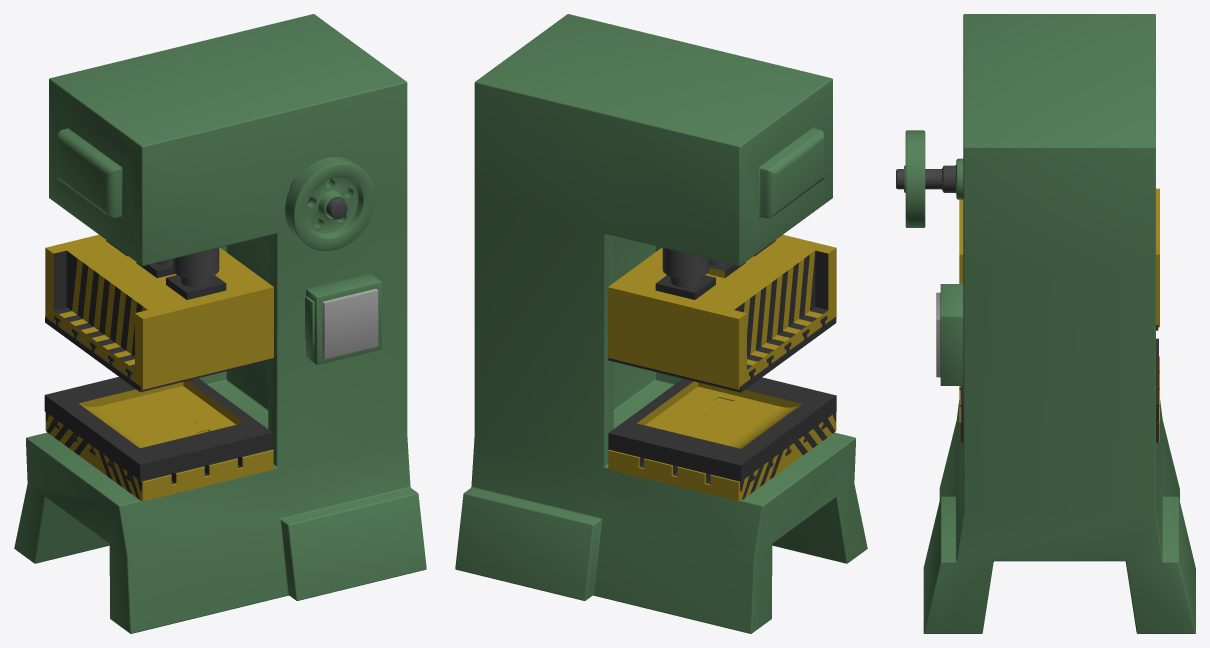
The model's file is Stamp Press V1.fbx.
3 views of the same model, side by side, from view 1: azimuth 30°, elevation 25°; view 2: azimuth 150°, elevation 25°; view 3: azimuth 270°, elevation 25° (orthographic). The views are drawn at different scales.
Parts seen in each view (by area): view 1: Frame, Ram, Back 1 Die, Cylinder.016, Electrical Box, Bed and Bolster, Back 1 Punch v1.001, Guideway.002; view 2: Frame, Ram, Back 1 Die, Bed and Bolster, Back 1 Punch v1.001, Guideway; view 3: Frame, Electrical Box, Cylinder.016, Cylinder.001, Ram.
Part boxes in pixels (x1=…): Frame: x1=14, y1=14, x2=426, y2=633; Ram: x1=45, y1=234, x2=273, y2=389; Back 1 Die: x1=44, y1=377, x2=272, y2=481; Cylinder.016: x1=285, y1=157, x2=375, y2=251; Electrical Box: x1=305, y1=273, x2=381, y2=364; Bed and Bolster: x1=45, y1=412, x2=273, y2=501; Back 1 Punch v1.001: x1=45, y1=315, x2=272, y2=392; Guideway.002: x1=172, y1=247, x2=219, y2=278; Frame: x1=455, y1=14, x2=867, y2=633; Ram: x1=608, y1=234, x2=836, y2=389; Back 1 Die: x1=608, y1=377, x2=836, y2=482; Bed and Bolster: x1=608, y1=412, x2=836, y2=501; Back 1 Punch v1.001: x1=608, y1=316, x2=836, y2=392; Guideway: x1=662, y1=247, x2=709, y2=278; Frame: x1=923, y1=14, x2=1195, y2=633; Electrical Box: x1=936, y1=284, x2=963, y2=385; Cylinder.016: x1=904, y1=130, x2=925, y2=227; Cylinder.001: x1=896, y1=158, x2=963, y2=199; Ram: x1=959, y1=188, x2=1159, y2=327.
Size of the model in its own units: 214 by 335 by 187.
